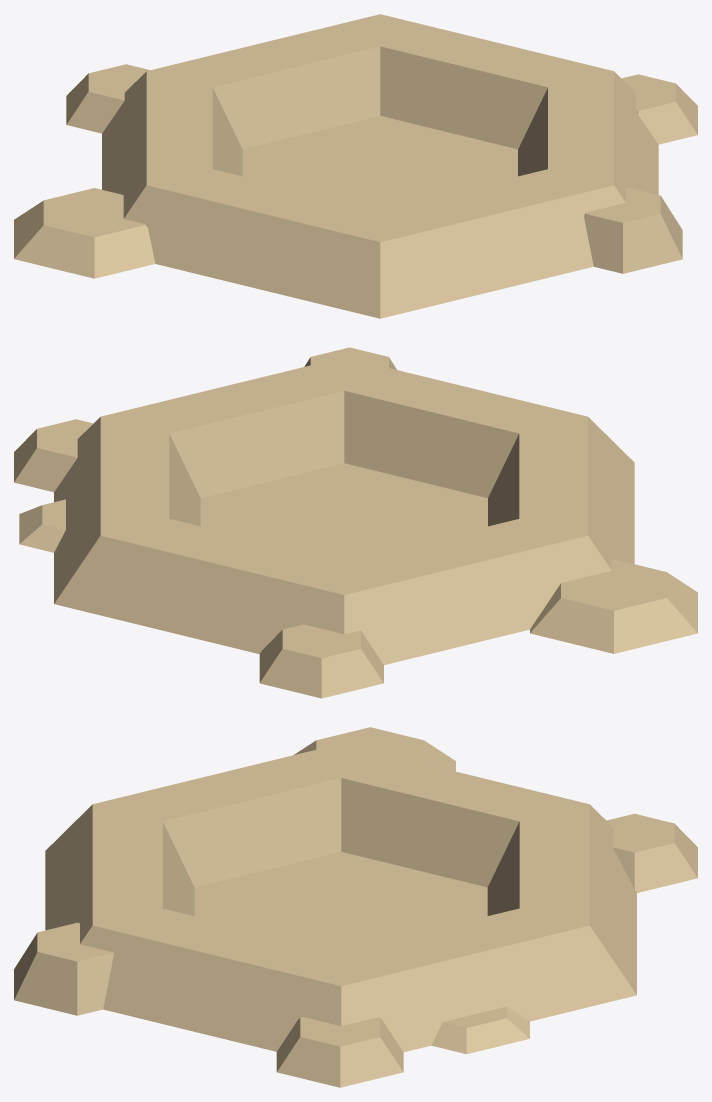
File: hole.glb
3 renders of one model, top to bottom at view 1: azimuth 30°, elevation 25°; view 2: azimuth 150°, elevation 25°; view 3: azimuth 270°, elevation 25°, orthographic. The views are drawn at different scales.
Visible parts, largest first — view 1: hole; view 2: hole; view 3: hole.
Boxes of the visible parts, x1=… form: hole: x1=14, y1=14, x2=697, y2=318; hole: x1=14, y1=347, x2=697, y2=698; hole: x1=14, y1=727, x2=697, y2=1087.
Size of the model in its own units: 10.23 by 0.8 by 8.51.
